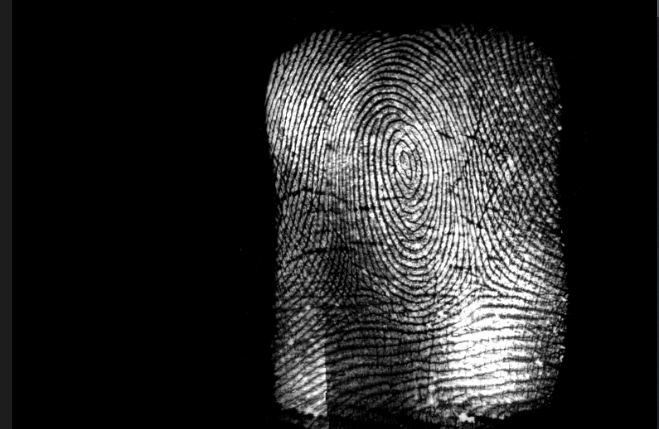deltas: (333, 256, 380, 315), (455, 262, 503, 310)
nucleo: (383, 135, 426, 188)
